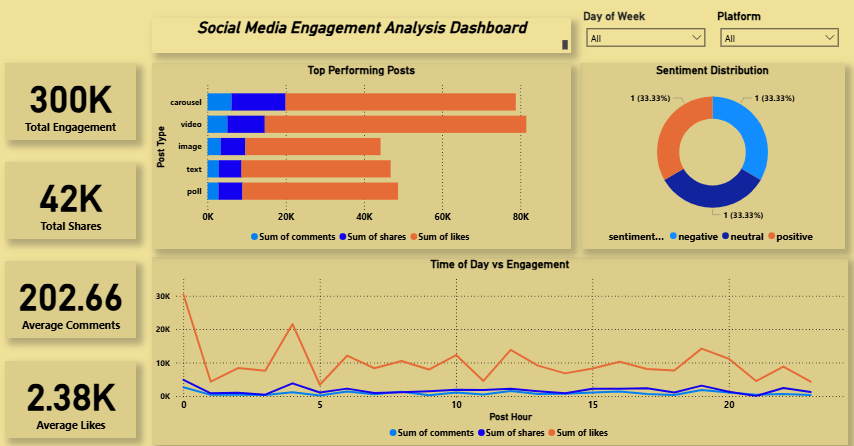

The page's visual inventory and layout, read from the dashboard file:
{"tool":"powerbi","page":{"name":"Page 1","canvas":[1280,720],"ordinal":0},"visuals":[{"type":"card","fields":{"Values":["social_media_engagement1.Average Comments"]},"box":[6.8,442.7,196.4,115.1],"z":0},{"type":"card","fields":{"Values":["social_media_engagement1.Average Likes"]},"box":[6.8,590.9,196.4,115.1],"z":1000},{"type":"card","fields":{"Values":["social_media_engagement1.Total Shares"]},"box":[6.8,294.5,196.4,115.1],"z":2000},{"type":"lineChart","title":"Time of Day vs Engagement","fields":{"Category":["social_media_engagement1.Post_Hour"],"Y":["Sum(social_media_engagement1.comments)","Sum(social_media_engagement1.shares)","Sum(social_media_engagement1.likes)"]},"box":[226.9,436.8,1039.6,281.1],"z":3000},{"type":"donutChart","title":"Sentiment Distribution","fields":{"Y":["Count(social_media_engagement1.sentiment_score)"],"Category":["social_media_engagement1.sentiment_score"]},"box":[866.4,146.4,395.9,277.8],"z":4000},{"type":"barChart","title":"Top Performing Posts","fields":{"Category":["social_media_engagement1.post_type"],"Y":["Sum(social_media_engagement1.comments)","Sum(social_media_engagement1.shares)","Sum(social_media_engagement1.likes)"]},"box":[227.1,146.4,625.9,277.8],"z":5000},{"type":"slicer","title":"Platform","fields":{"Values":["social_media_engagement1.platform"]},"box":[1066.6,65.7,195.7,65.7],"z":6000},{"type":"slicer","title":"Day of Week","fields":{"Values":["social_media_engagement1.Day_of_Week"]},"box":[866.4,65.7,197.2,65.7],"z":7000},{"type":"card","fields":{"Values":["social_media_engagement1.Total Engagement"]},"box":[7.5,146.4,195.7,115],"z":8000},{"type":"textbox","title":"Social Media Engagement Analysis Dashboard","box":[227.1,79.2,625.9,52.3],"z":9000}]}

Visuals, with their boxes on the page's 1280x720 design canvas (x1, y1, x2, y2). These are canvas units, not pixel positions in the 854x446 screenshot, which may show the page scaled, cropped or inside an application window:
card - social_media_engagement1.Average Comments: (x1=7, y1=443, x2=203, y2=558)
card - social_media_engagement1.Average Likes: (x1=7, y1=591, x2=203, y2=706)
card - social_media_engagement1.Total Shares: (x1=7, y1=294, x2=203, y2=410)
"Time of Day vs Engagement" lineChart: (x1=227, y1=437, x2=1266, y2=718)
"Sentiment Distribution" donutChart: (x1=866, y1=146, x2=1262, y2=424)
"Top Performing Posts" barChart: (x1=227, y1=146, x2=853, y2=424)
"Platform" slicer: (x1=1067, y1=66, x2=1262, y2=131)
"Day of Week" slicer: (x1=866, y1=66, x2=1064, y2=131)
card - social_media_engagement1.Total Engagement: (x1=8, y1=146, x2=203, y2=261)
"Social Media Engagement Analysis Dashboard" textbox: (x1=227, y1=79, x2=853, y2=132)
